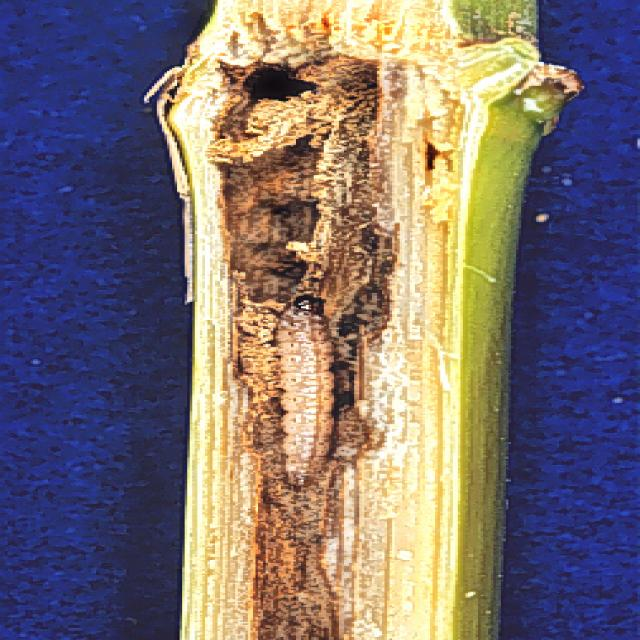cornborer-Larva-: (274, 293, 355, 491)
